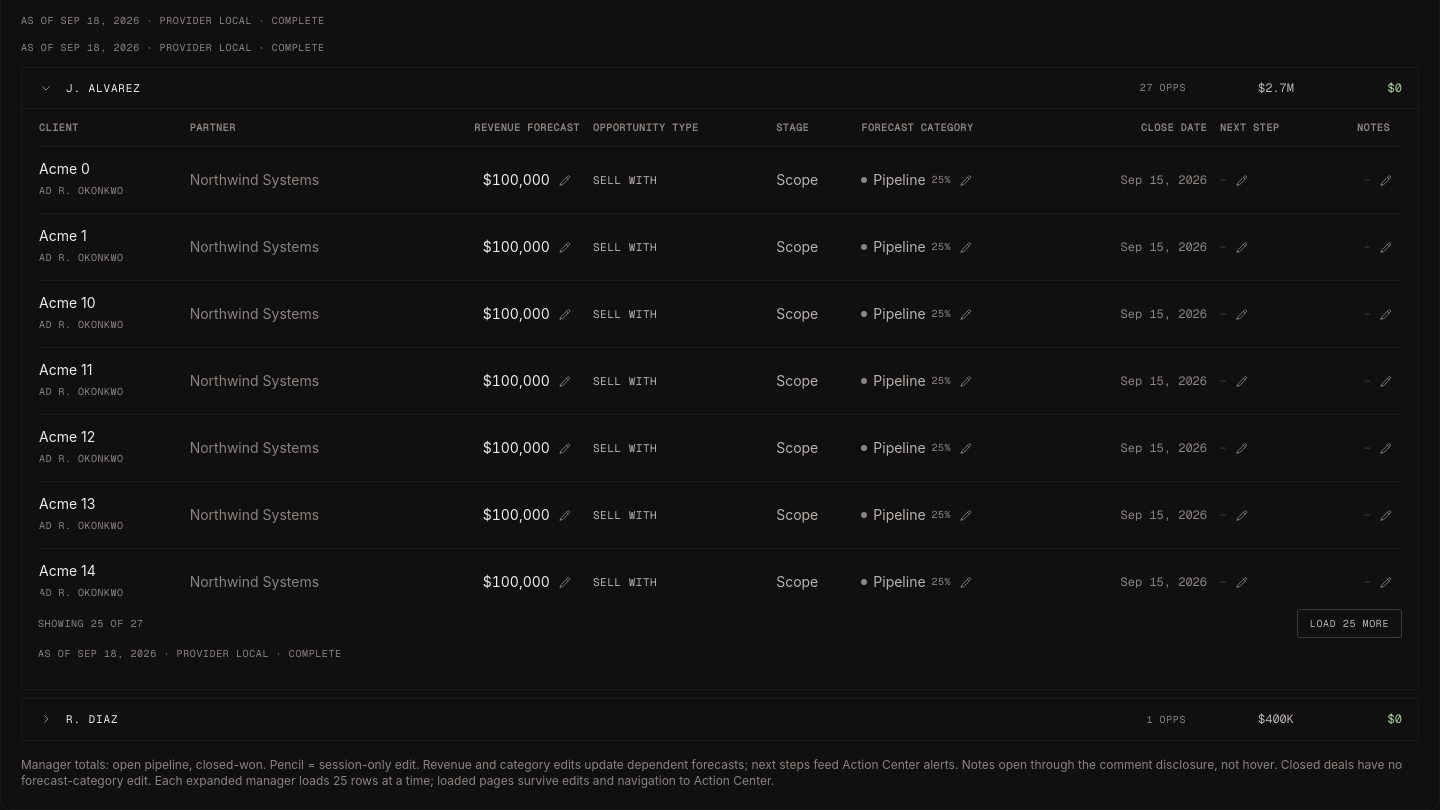
ForecastingView › fetches one page per expanded manager, and pages on request
(page scrolled)
Expected: the text "Showing 25 of 27" is shown, [38,617,144,630]
Click the button "Load 25 more" at point(1349, 624), box [1297,609,1402,638]
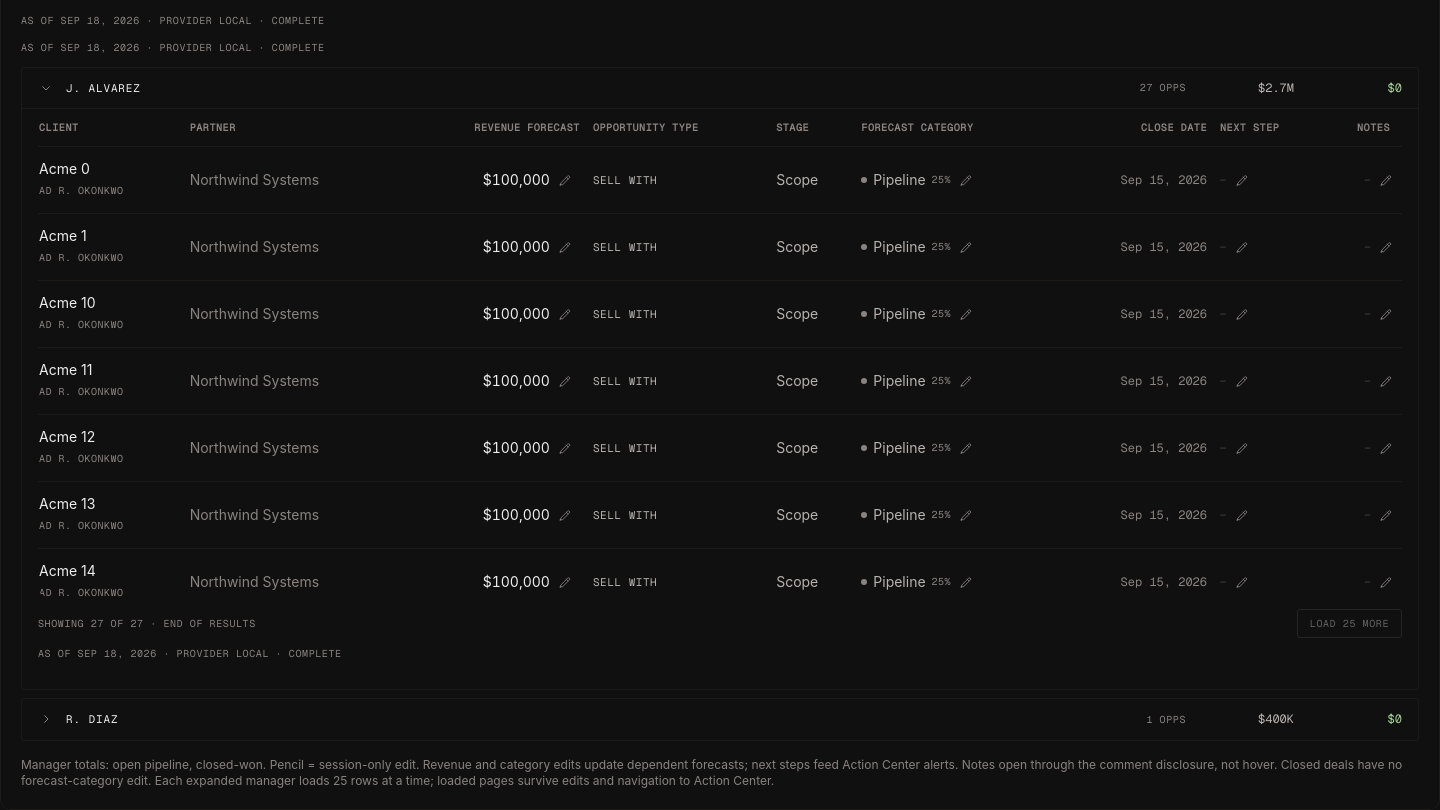
Result: the text "Showing 27 of 27" is shown at [38,617,144,630]
